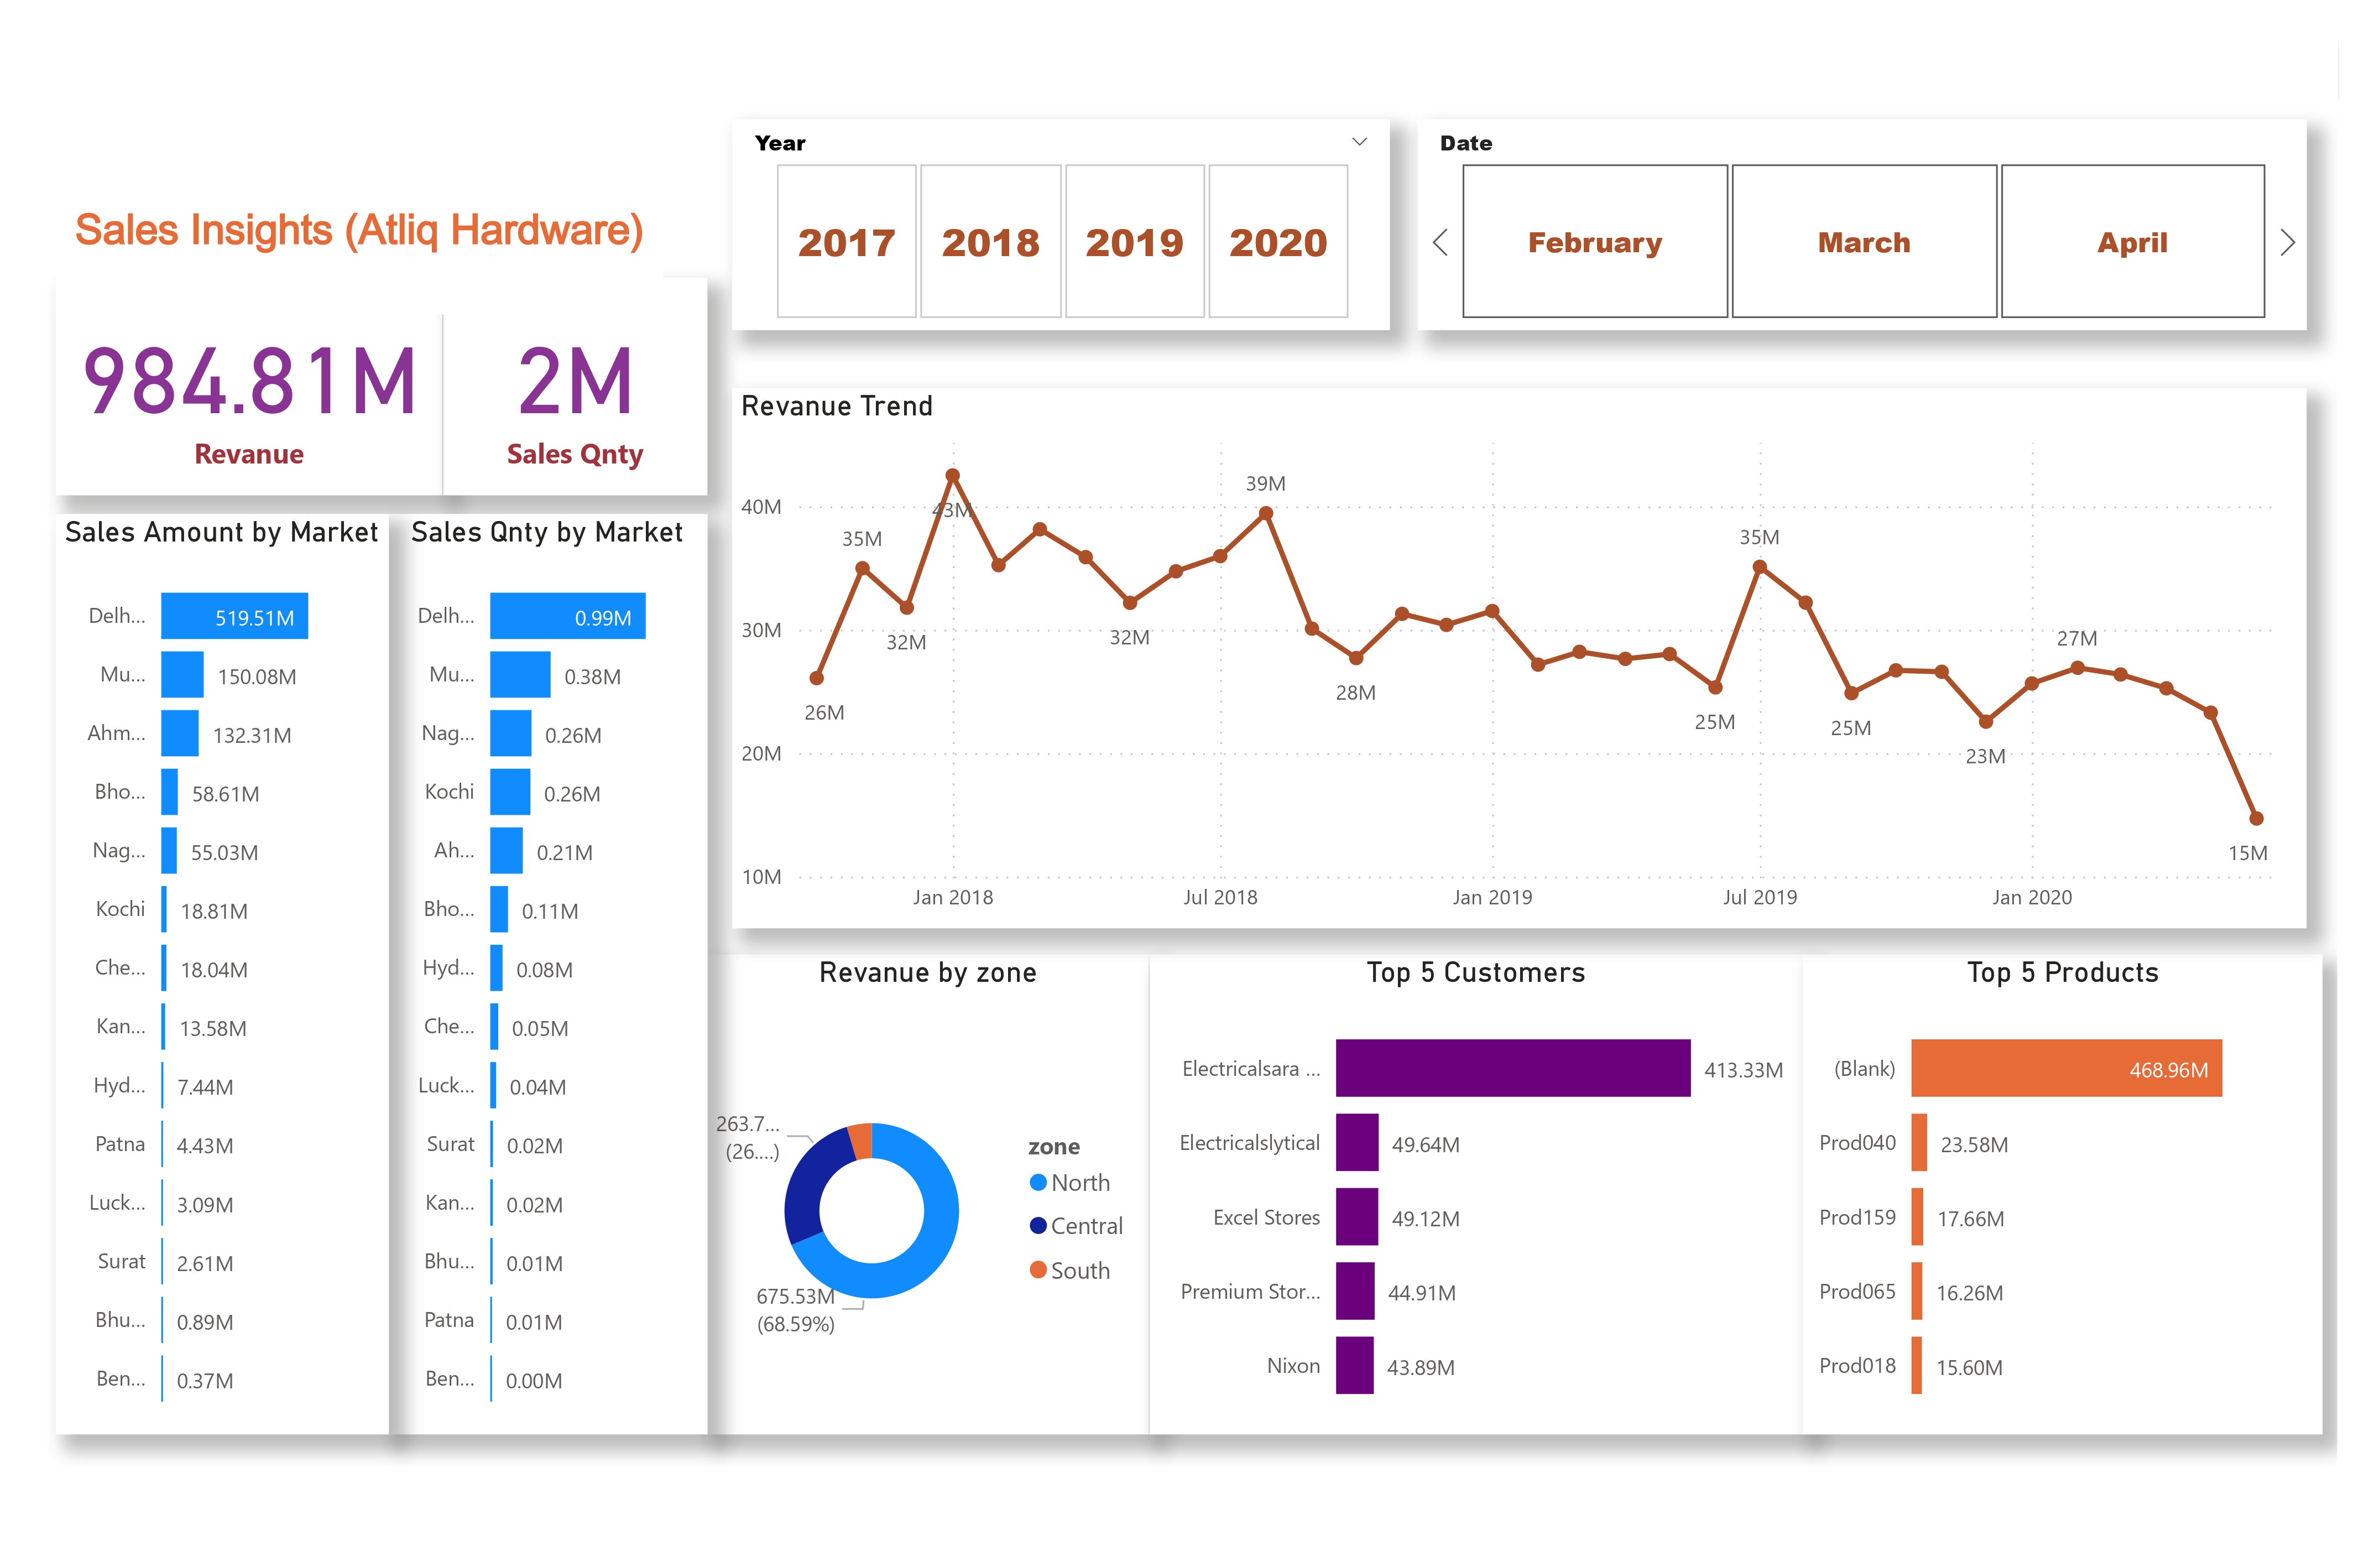

The page's visual inventory and layout, read from the dashboard file:
{"tool":"powerbi","page":{"name":"Page 1","canvas":[1330,850],"ordinal":0},"visuals":[{"type":"card","fields":{"Values":["Base Measures.Revanue"]},"box":[8,136.8,224.5,100.9],"z":0},{"type":"card","fields":{"Values":["Base Measures.Sales Qnty"]},"box":[232.4,136.8,176.6,100.9],"z":1000},{"type":"donutChart","fields":{"Category":["sales markets.zone"],"Y":["Base Measures.Revanue"]},"box":[409.1,547.2,270.9,277.6],"z":2000},{"type":"clusteredBarChart","title":"Sales Qnty by Market","fields":{"Y":["Base Measures.Sales Qnty"],"Category":["sales markets.markets_name"]},"box":[195.2,273.6,174,516.6],"z":3000},{"type":"slicer","fields":{"Values":["sales date.year"]},"box":[8,45.2,401.1,78.4],"z":4000},{"type":"slicer","fields":{"Values":["sales date.cy_date"]},"box":[423.7,45.2,897.8,122.2],"z":5000},{"type":"clusteredBarChart","title":"Top 5 Customers","fields":{"Category":["sales customers.custmer_name"],"Y":["Base Measures.Revanue"]},"box":[686.6,547.2,306.8,277.6],"z":6000},{"type":"clusteredBarChart","title":"Top 5 Products","fields":{"Category":["sales products.product_code"],"Y":["Base Measures.Revanue"]},"box":[993.4,547.2,328,277.6],"z":7000},{"type":"lineChart","title":"Revanue Trend","fields":{"Y":["Base Measures.Revanue"],"Category":["sales date.cy_date"]},"box":[423.7,189.9,897.8,342.7],"z":8000},{"type":"clusteredBarChart","title":"Sales Amount by Market","fields":{"Y":["sales transactions.sales_amount"],"Category":["sales markets.markets_name"]},"box":[13.3,289.1,181.7,517.2],"z":9000}]}

Visuals, with their boxes on the page's 1330x850 design canvas (x1, y1, x2, y2). These are canvas units, not pixel positions in the 2380x1551 screenshot, which may show the page scaled, cropped or inside an application window:
card - Base Measures.Revanue: (8,137,232,238)
card - Base Measures.Sales Qnty: (232,137,409,238)
donutChart - sales markets.zone x Base Measures.Revanue: (409,547,680,825)
"Sales Qnty by Market" clusteredBarChart: (195,274,369,790)
slicer - sales date.year: (8,45,409,124)
slicer - sales date.cy_date: (424,45,1322,167)
"Top 5 Customers" clusteredBarChart: (687,547,993,825)
"Top 5 Products" clusteredBarChart: (993,547,1321,825)
"Revanue Trend" lineChart: (424,190,1322,533)
"Sales Amount by Market" clusteredBarChart: (13,289,195,806)
